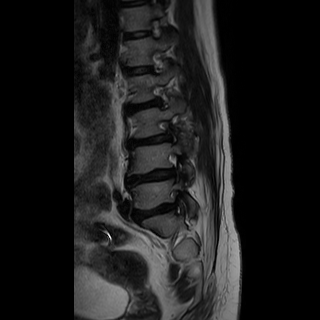LFS0: (148, 80, 173, 115)
LFS3: (156, 115, 181, 149)
